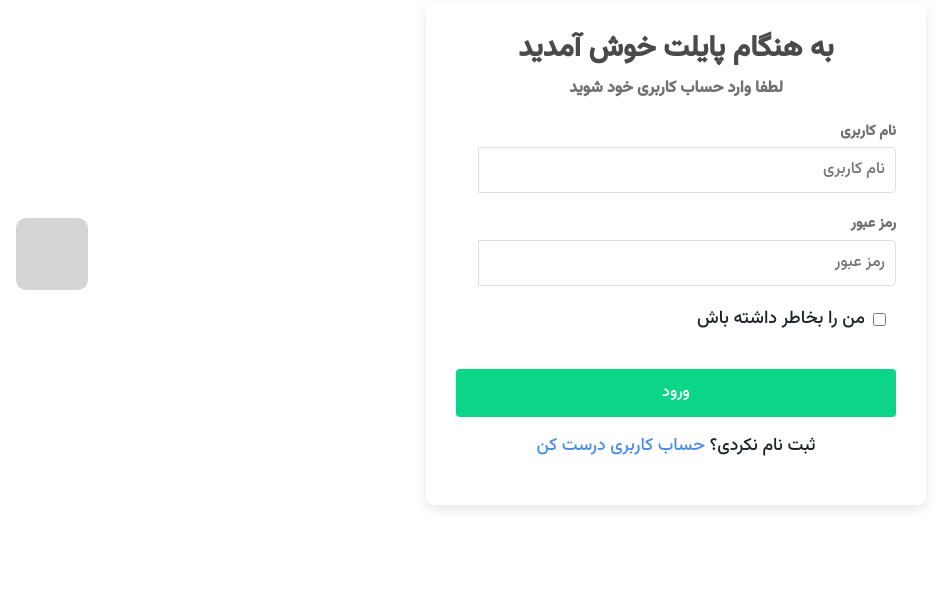
LoginPage › shows validation errors when fields are empty
Step 1. Click the button "ورود" → {"x": 676, "y": 393}, box [456,369,896,417]
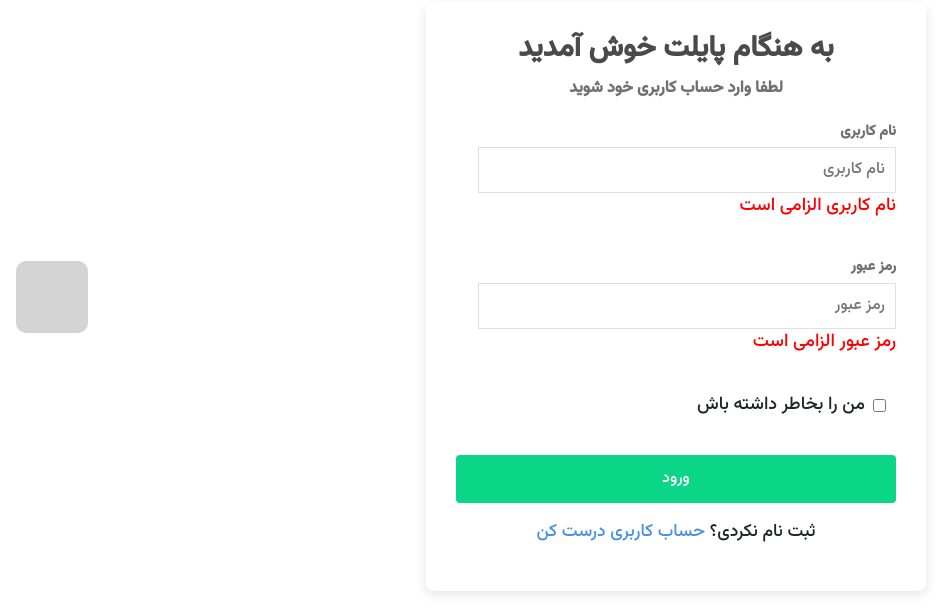
Result: the text "نام کاربری الزامی است" is shown at [740,193,896,220]
Result: the text "رمز عبور الزامی است" is shown at [753,329,896,356]
